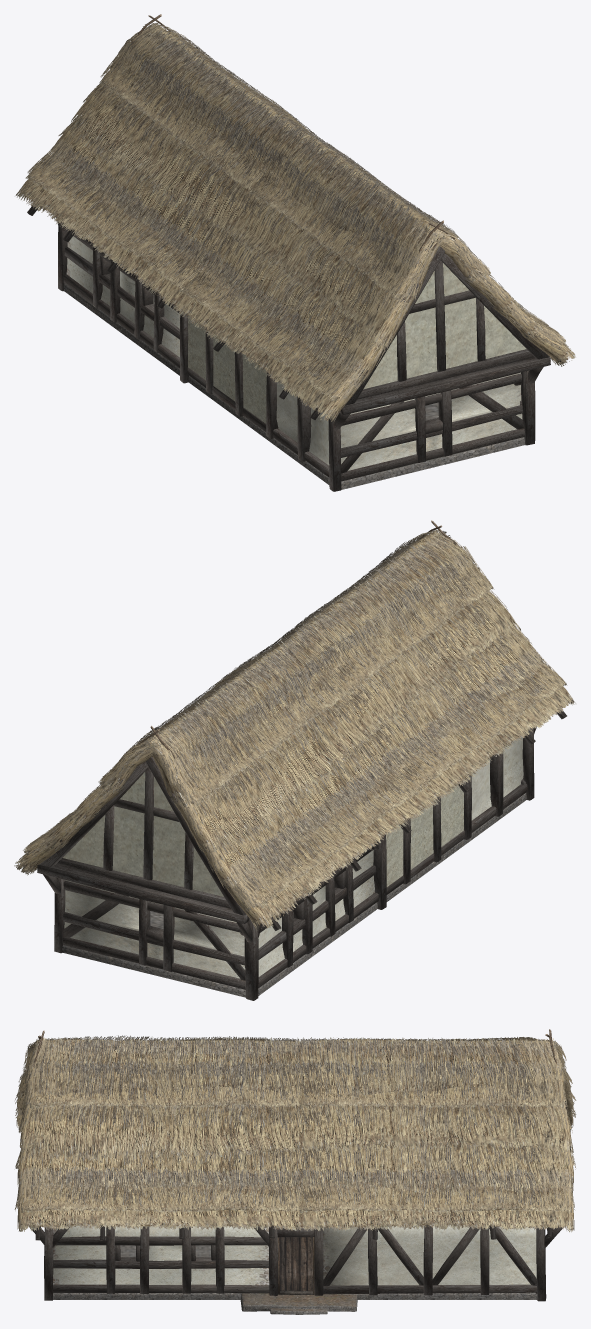
Rendered from thatched_house_1.obj.
The picture shows the model from 3 angles, top to bottom: view 1: azimuth 30°, elevation 25°; view 2: azimuth 150°, elevation 25°; view 3: azimuth 270°, elevation 25°; orthographic projection. The views are drawn at different scales.
Parts seen in each view (by area): view 1: thatched_house_1; view 2: thatched_house_1; view 3: thatched_house_1.
Part boxes in pixels (bbox=[...]): thatched_house_1: bbox=[15, 14, 575, 491]; thatched_house_1: bbox=[14, 520, 575, 1000]; thatched_house_1: bbox=[14, 1029, 576, 1314].
Size of the model in its own units: 9.84 by 8.82 by 20.01.
Materials: 2 (2 with a texture image).
